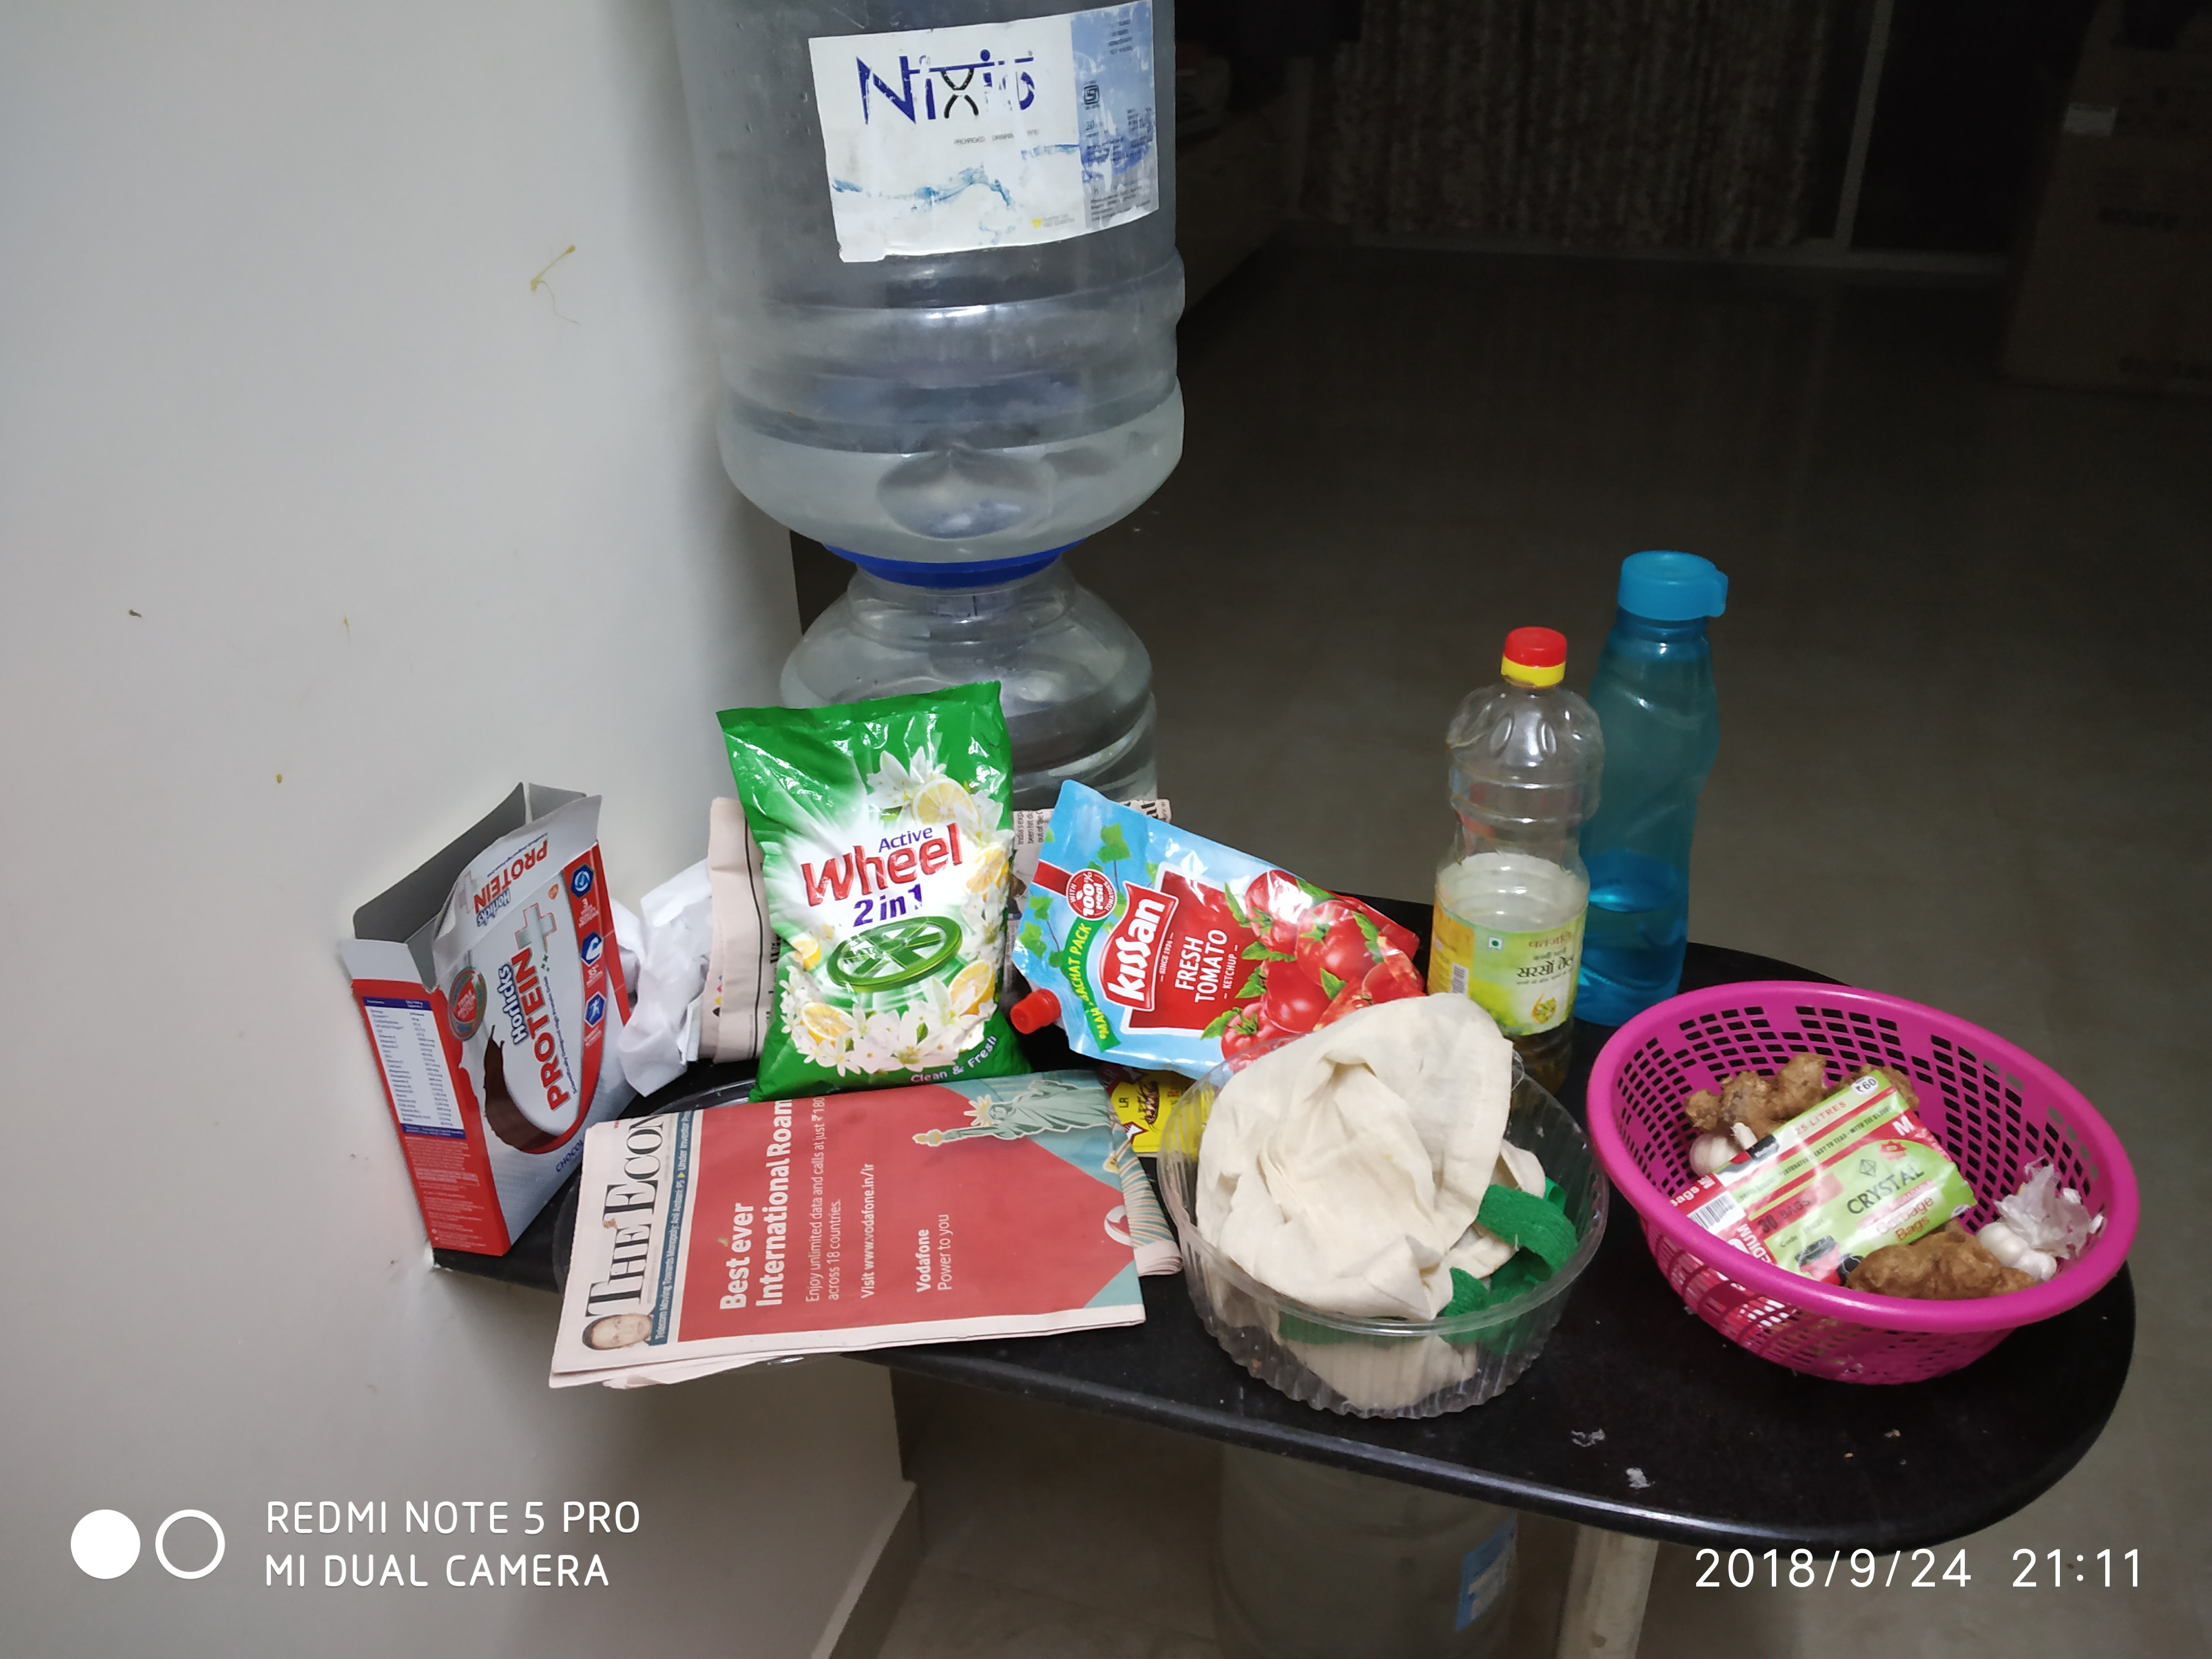detergent: (733, 680, 1015, 1108)
